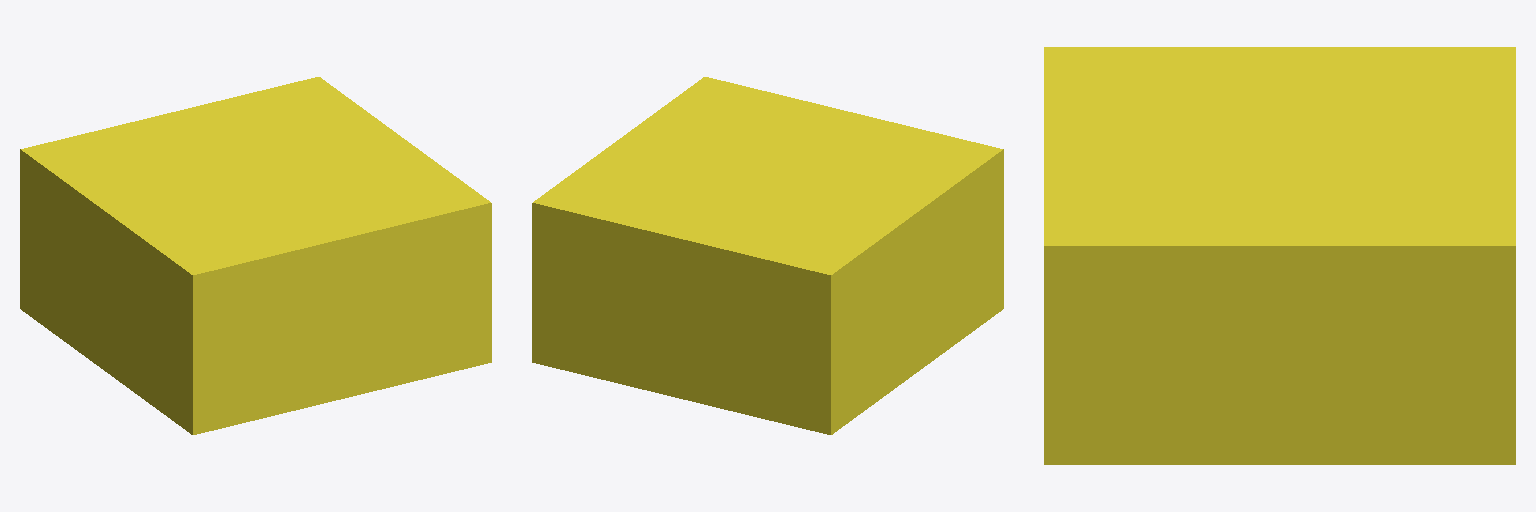
URDF robot description (summit_xl):
<?xml version="1.0" ?>
<!-- =================================================================================== -->
<!-- |    This document was autogenerated by xacro from summit_xls_std.urdf.xacro      | -->
<!-- |    EDITING THIS FILE BY HAND IS NOT RECOMMENDED                                 | -->
<!-- =================================================================================== -->
<robot name="summit_xl">

  <link name="v_x_link" />
  <joint name="v_x_joint" type="prismatic">
    <origin rpy="0 0 0" xyz="0 0 -0.13228"/>
      <parent link="v_x_link"/>
      <child link="v_y_link"/>
      <axis xyz= "1 0 0"/>
      <limit effort="1000.0" lower="-10000.0" upper="-10000.0" velocity="10000.0"/>
  </joint>
  <link name="v_y_link" />
  <joint name="v_y_joint" type="prismatic">
    <origin rpy="0 0 0" xyz="0 0 -0.13228"/>
      <parent link="v_y_link"/>
      <child link="v_t_link"/>
      <axis xyz= "0 1 0"/>
      <limit effort="1000.0" lower="-10000.0" upper="-10000.0" velocity="10000.0"/>
  </joint>
  <link name="v_t_link" />
  <joint name="v_t_joint" type="revolute">
    <origin rpy="0 0 0" xyz="0 0 -0.13228"/>
      <parent link="v_t_link"/>
      <child link="summit_xl_base_link"/>
      <axis rpy="0 0 0" xyz="0 0 1"/>
      <limit effort="1000.0" lower="-6.24" upper="6.24" velocity="10000.0"/>
  </joint>

  <link name="summit_xl_base_footprint">
    <visual>
      <origin rpy="0 0 0" xyz="0 0 0"/>
      <geometry>
        <box size="0.001 0.001 0.001"/>
      </geometry>
    </visual>
  </link>
  <link name="summit_xl_base_link">
    <inertial>
      <mass value="125.0"/>
      <origin xyz="0 0 0"/>
      <inertia ixx="1.391" ixy="0.004" ixz="0.0" iyy="6.853" iyz="0.0" izz="6.125"/>
    </inertial>
    <visual>
      <origin rpy="0 0 0" xyz="0 0 0"/>
      <geometry>
        <mesh filename="package://summit_xl_description/meshes/bases/xls/summit_xls_chassis.stl"/>
      </geometry>
      <material name="black">
        <color rgba="0.0 0.0 0.0 1"/>
      </material>
    </visual>
    <collision>
      <origin rpy="0 0 0 " xyz="0 0 0"/>
      <geometry>
        <mesh filename="package://summit_xl_description/meshes/bases/xls/summit_xls_chassis.dae"/>
      </geometry>
    </collision>
  </link>

  <joint name="summit_xl_base_footprint_joint" type="fixed">
    <origin rpy="0 0 0" xyz="0 0 0.127"/>
    <!-- ${wheel_radius} property must be defined inside wheel description -->
    <parent link="summit_xl_base_link"/>
    <child link="summit_xl_base_footprint"/>
  </joint>
  <!-- BASE_LINK -->


  <!-- CHAPAS INOX TAPAS -->
  <link name="summit_xl_base_chapa">
    <visual>
      <origin rpy="0 0 0" xyz="0 0 0"/>
      <geometry>
        <mesh filename="package://summit_xl_description/meshes/bases/xls/summit_xls_chapas_inox_tapas.stl"/>
      </geometry>
      <material name="darkgrey">
        <color rgba="0.5 0.5 0.5 1"/>
      </material>
    </visual>
    <collision>
      <origin rpy="0 0 0" xyz="0 0 0"/>
      <geometry>
        <mesh filename="package://summit_xl_description/meshes/bases/xls/summit_xls_chapas_inox_tapas.stl"/>
      </geometry>
    </collision>
  </link>
  <joint name="summit_xl_base_tapa_joint" type="fixed">
    <origin rpy="0 0 0" xyz="0.0 0 0.38062"/>
    <parent link="summit_xl_base_link"/>
    <child link="summit_xl_base_chapa"/>
  </joint>
  <!-- LOGO ROBOTNIK IZQUIERDO -->
  <link name="summit_xl_base_logo_left">
    <visual>
      <origin rpy="0 0 0" xyz="0 0 0"/>
      <geometry>
        <mesh filename="package://summit_xl_description/meshes/bases/xls/robotnik_logo_chasis.stl"/>
      </geometry>
      <material name="darkgrey">
        <color rgba="0.5 0.5 0.5 1"/>
      </material>
    </visual>
  </link>
  <joint name="summit_xl_base_logo_left_joint" type="fixed">
    <origin rpy="0 0 0" xyz="0.0 0.28931 0.29062"/>
    <parent link="summit_xl_base_link"/>
    <child link="summit_xl_base_logo_left"/>
  </joint>
  <!-- LOGO ROBOTNIK DERECHO -->
  <link name="summit_xl_base_logo_right">
    <visual>
      <origin rpy="0 0 0" xyz="0 0 0"/>
      <geometry>
        <mesh filename="package://summit_xl_description/meshes/bases/xls/robotnik_logo_chasis.stl"/>
      </geometry>
      <material name="darkgrey">
        <color rgba="0.5 0.5 0.5 1"/>
      </material>
    </visual>
  </link>
  <joint name="summit_xl_base_logo_right_joint" type="fixed">
    <origin rpy="0 0 3.141592653589793" xyz="0.0 -0.28931 0.29062"/>
    <parent link="summit_xl_base_link"/>
    <child link="summit_xl_base_logo_right"/>
  </joint>
  <!-- LOGO ROBOTNIK FRONTAL -->
  <link name="summit_xl_base_logo_front">
    <visual>
      <origin rpy="0 0 0" xyz="0 0 0"/>
      <geometry>
        <mesh filename="package://summit_xl_description/meshes/bases/xls/robotnik_logo_chasis.stl"/>
      </geometry>
      <material name="darkgrey">
        <color rgba="0.5 0.5 0.5 1"/>
      </material>
    </visual>
  </link>
  <joint name="summit_xl_base_logo_front_joint" type="fixed">
    <origin rpy="0 0 -1.5707963267948966" xyz="0.345 0.0 0.0"/>
    <parent link="summit_xl_base_link"/>
    <child link="summit_xl_base_logo_front"/>
  </joint>
  <!-- LOGO ROBOTNIK TRASERO -->
  <link name="summit_xl_base_logo_rear">
    <visual>
      <origin rpy="0 0 0" xyz="0 0 0"/>
      <geometry>
        <mesh filename="package://summit_xl_description/meshes/bases/xls/robotnik_logo_chasis.stl"/>
      </geometry>
      <material name="darkgrey">
        <color rgba="0.5 0.5 0.5 1"/>
      </material>
    </visual>
  </link>
  <joint name="summit_xl_base_logo_rear_joint" type="fixed">
    <origin rpy="0 0 1.5707963267948966" xyz="-0.345 0.0 0.0"/>
    <parent link="summit_xl_base_link"/>
    <child link="summit_xl_base_logo_rear"/>
  </joint>
  <!-- DOCKING CONTACT -->
  <link name="summit_xl_base_docking_contact">
    </link>
  <joint name="summit_xl_base_docking_joint" type="fixed">
    <origin rpy="0 0 0" xyz="0.35 0 0.09"/>
    <parent link="summit_xl_base_link"/>
    <child link="summit_xl_base_docking_contact"/>
  </joint>
  <link name="top_structure">
    <visual>
      <origin rpy="0 0 0" xyz="0 0 0"/>
      <geometry>
        <mesh filename="package://summit_xl_description/meshes/structures/top_structure_roas.STL"/>
      </geometry>
      <material name="silver">
        <color rgba="0.75 0.75 0.75 1"/>
      </material>
    </visual>
    <collision>
      <origin rpy="0 0 0" xyz="-0.29 0 0.75"/>
      <geometry>
        <box size="0.09 0.45 0.5"/>
      </geometry>
    </collision>
  </link>
  <material name="aluminum">
    <color rgba="0.5 0.5 0.5 1"/>
  </material>
  
  <joint name="top_structure_joint" type="fixed">
    <origin rpy="0 0 0" xyz="0 0 -0.127"/>
    <parent link="summit_xl_base_link"/>
    <child link="top_structure"/>
  </joint>

  <link name="ur5e_base_link">
    <visual>
      <geometry>
        <mesh filename="package://ur_e_description/meshes/ur5e/visual/base.dae"/>
      </geometry>
      <material name="LightGrey">
        <color rgba="0.7 0.7 0.7 1.0"/>
      </material>
    </visual>
    <collision>
      <geometry>
        <mesh filename="package://ur_e_description/meshes/ur5e/collision/base.stl"/>
      </geometry>
    </collision>
    <inertial>
      <mass value="4.0"/>
      <origin rpy="0 0 0" xyz="0.0 0.0 0.0"/>
      <inertia ixx="0.00443333156" ixy="0.0" ixz="0.0" iyy="0.00443333156" iyz="0.0" izz="0.0072"/>
    </inertial>
  </link>
  <joint name="ur5e_shoulder_pan_joint" type="revolute">
    <parent link="ur5e_base_link"/>
    <child link="ur5e_shoulder_link"/>
    <origin rpy="0.0 0.0 0.0" xyz="0.0 0.0 0.163"/>
    <axis xyz="0 0 1"/>
    <limit effort="150.0" lower="-3.141592653589793" upper="3.141592653589793" velocity="3.14"/>
    <dynamics damping="0.0" friction="0.0"/>
  </joint>
  <link name="ur5e_shoulder_link">
    <visual>
      <geometry>
        <mesh filename="package://ur_e_description/meshes/ur5e/visual/shoulder.dae"/>
      </geometry>
      <material name="LightGrey">
        <color rgba="0.7 0.7 0.7 1.0"/>
      </material>
    </visual>
    <collision>
      <geometry>
        <mesh filename="package://ur_e_description/meshes/ur5e/collision/shoulder.stl"/>
      </geometry>
    </collision>
    <inertial>
      <mass value="3.7"/>
      <origin rpy="0 0 0" xyz="0.0 0.0 0.0"/>
      <inertia ixx="0.010267495893" ixy="0.0" ixz="0.0" iyy="0.010267495893" iyz="0.0" izz="0.00666"/>
    </inertial>
  </link>
  <joint name="ur5e_shoulder_lift_joint" type="revolute">
    <parent link="ur5e_shoulder_link"/>
    <child link="ur5e_upper_arm_link"/>
    <origin rpy="0.0 1.5707963267948966 0.0" xyz="0.0 0.138 0.0"/>
    <axis xyz="0 1 0"/>
    <limit effort="150.0" lower="-3.141592653589793" upper="3.141592653589793" velocity="3.14"/>
    <dynamics damping="0.0" friction="0.0"/>
  </joint>
  <link name="ur5e_upper_arm_link">
    <visual>
      <geometry>
        <mesh filename="package://ur_e_description/meshes/ur5e/visual/upperarm.dae"/>
      </geometry>
      <material name="LightGrey">
        <color rgba="0.7 0.7 0.7 1.0"/>
      </material>
    </visual>
    <collision>
      <geometry>
        <mesh filename="package://ur_e_description/meshes/ur5e/collision/upperarm.stl"/>
      </geometry>
    </collision>
    <inertial>
      <mass value="8.393"/>
      <origin rpy="0 0 0" xyz="0.0 0.0 0.2125"/>
      <inertia ixx="0.1338857818623325" ixy="0.0" ixz="0.0" iyy="0.1338857818623325" iyz="0.0" izz="0.0151074"/>
    </inertial>
  </link>
  <joint name="ur5e_elbow_joint" type="revolute">
    <parent link="ur5e_upper_arm_link"/>
    <child link="ur5e_forearm_link"/>
    <origin rpy="0.0 0.0 0.0" xyz="0.0 -0.131 0.425"/>
    <axis xyz="0 1 0"/>
    <limit effort="150.0" lower="-3.141592653589793" upper="3.141592653589793" velocity="3.14"/>
    <dynamics damping="0.0" friction="0.0"/>
  </joint>
  <link name="ur5e_forearm_link">
    <visual>
      <geometry>
        <mesh filename="package://ur_e_description/meshes/ur5e/visual/forearm.dae"/>
      </geometry>
      <material name="LightGrey">
        <color rgba="0.7 0.7 0.7 1.0"/>
      </material>
    </visual>
    <collision>
      <geometry>
        <mesh filename="package://ur_e_description/meshes/ur5e/collision/forearm.stl"/>
      </geometry>
    </collision>
    <inertial>
      <mass value="2.275"/>
      <origin rpy="0 0 0" xyz="0.0 0.0 0.196"/>
      <inertia ixx="0.031179620861480004" ixy="0.0" ixz="0.0" iyy="0.031179620861480004" iyz="0.0" izz="0.004095"/>
    </inertial>
  </link>
  <joint name="ur5e_wrist_1_joint" type="revolute">
    <parent link="ur5e_forearm_link"/>
    <child link="ur5e_wrist_1_link"/>
    <origin rpy="0.0 1.5707963267948966 0.0" xyz="0.0 0.0 0.392"/>
    <axis xyz="0 1 0"/>
    <limit effort="28.0" lower="-3.141592653589793" upper="3.141592653589793" velocity="6.28"/>
    <dynamics damping="0.0" friction="0.0"/>
  </joint>
  <link name="ur5e_wrist_1_link">
    <visual>
      <geometry>
        <mesh filename="package://ur_e_description/meshes/ur5e/visual/wrist1.dae"/>
      </geometry>
      <material name="LightGrey">
        <color rgba="0.7 0.7 0.7 1.0"/>
      </material>
    </visual>
    <collision>
      <geometry>
        <mesh filename="package://ur_e_description/meshes/ur5e/collision/wrist1.stl"/>
      </geometry>
    </collision>
    <inertial>
      <mass value="1.219"/>
      <origin rpy="0 0 0" xyz="0.0 0.127 0.0"/>
      <inertia ixx="0.0025598989760400002" ixy="0.0" ixz="0.0" iyy="0.0025598989760400002" iyz="0.0" izz="0.0021942"/>
    </inertial>
  </link>
  <joint name="ur5e_wrist_2_joint" type="revolute">
    <parent link="ur5e_wrist_1_link"/>
    <child link="ur5e_wrist_2_link"/>
    <origin rpy="0.0 0.0 0.0" xyz="0.0 0.127 0.0"/>
    <axis xyz="0 0 1"/>
    <limit effort="28.0" lower="-3.141592653589793" upper="3.141592653589793" velocity="6.28"/>
    <dynamics damping="0.0" friction="0.0"/>
  </joint>
  <link name="ur5e_wrist_2_link">
    <visual>
      <geometry>
        <mesh filename="package://ur_e_description/meshes/ur5e/visual/wrist2.dae"/>
      </geometry>
      <material name="LightGrey">
        <color rgba="0.7 0.7 0.7 1.0"/>
      </material>
    </visual>
    <collision>
      <geometry>
        <mesh filename="package://ur_e_description/meshes/ur5e/collision/wrist2.stl"/>
      </geometry>
    </collision>
    <inertial>
      <mass value="1.219"/>
      <origin rpy="0 0 0" xyz="0.0 0.0 0.1"/>
      <inertia ixx="0.0025598989760400002" ixy="0.0" ixz="0.0" iyy="0.0025598989760400002" iyz="0.0" izz="0.0021942"/>
    </inertial>
  </link>
  <joint name="ur5e_wrist_3_joint" type="revolute">
    <parent link="ur5e_wrist_2_link"/>
    <child link="ur5e_wrist_3_link"/>
    <origin rpy="0.0 0.0 0.0" xyz="0.0 0.0 0.1"/>
    <axis xyz="0 1 0"/>
    <limit effort="28.0" lower="-3.141592653589793" upper="3.141592653589793" velocity="6.28"/>
    <dynamics damping="0.0" friction="0.0"/>
  </joint>
  <link name="ur5e_wrist_3_link">
    <visual>
      <geometry>
        <mesh filename="package://ur_e_description/meshes/ur5e/visual/wrist3.dae"/>
      </geometry>
      <material name="LightGrey">
        <color rgba="0.7 0.7 0.7 1.0"/>
      </material>
    </visual>
    <collision>
      <geometry>
        <mesh filename="package://ur_e_description/meshes/ur5e/collision/wrist3.stl"/>
      </geometry>
    </collision>
    <inertial>
      <mass value="0.1879"/>
      <origin rpy="1.5707963267948966 0 0" xyz="0.0 0.0771 0.0"/>
      <inertia ixx="9.890410052167731e-05" ixy="0.0" ixz="0.0" iyy="9.890410052167731e-05" iyz="0.0" izz="0.0001321171875"/>
    </inertial>
  </link>
  <joint name="ur5e_ee_fixed_joint" type="fixed">
    <parent link="ur5e_wrist_3_link"/>
    <child link="ur5e_ee_link"/>
    <origin rpy="0.0 0.0 1.5707963267948966" xyz="0.0 0.1 0.0"/>
  </joint>
  <link name="ur5e_ee_link">
    <collision>
      <geometry>
        <box size="0.01 0.01 0.01"/>
      </geometry>
      <origin rpy="0 0 0" xyz="-0.01 0 0"/>
    </collision>
  </link>

  <!-- ROS base_link to UR 'Base' Coordinates transform -->
  <link name="ur5e_base"/>
  <joint name="ur5e_base_link-base_fixed_joint" type="fixed">
    <!-- NOTE: this rotation is only needed as long as base_link itself is
                 not corrected wrt the real robot (ie: rotated over 180
                 degrees)
      -->
    <origin rpy="0 0 0" xyz="0 0 0"/>
    <parent link="ur5e_base"/>
    <child link="ur5e_base_link"/>
  </joint>
  <!-- Frame coincident with all-zeros TCP on UR controller -->
  <link name="ur5e_tool0"/>
  <joint name="ur5e_wrist_3_link-tool0_fixed_joint" type="fixed">
    <origin rpy="-1.5707963267948966 0 0" xyz="0 0.1 0"/>
    <parent link="ur5e_wrist_3_link"/>
    <child link="ur5e_tool0"/>
  </joint>

  <joint name="ur5e_base_joint" type="fixed">
    <origin rpy="0 0 0" xyz="0.225 0 0.01438"/>
    <parent link="summit_xl_base_chapa"/>
    <child link="ur5e_base"/>
  </joint>
</robot>

--- Render facts (derived) ---
Views: 3 orthographic renders of the robot side by side, from view 1: azimuth 30°, elevation 25°; view 2: azimuth 150°, elevation 25°; view 3: azimuth 270°, elevation 25°.
Robot: summit_xl — 22 links, 21 joints (7 revolute, 2 prismatic, 12 fixed); root link v_x_link; default pose: all joints at 0 but 2 set to mid-range because 0 is outside their limits (v_x_joint = -10000, v_y_joint = -10000).
Visible links, largest first — view 1: summit_xl_base_footprint; view 2: summit_xl_base_footprint; view 3: summit_xl_base_footprint.
Link boxes in pixels (<box>): summit_xl_base_footprint: <box>20,77,491,434</box>; summit_xl_base_footprint: <box>532,77,1003,434</box>; summit_xl_base_footprint: <box>1044,47,1515,464</box>.
Size in the robot's own frame: 0.002 by 0.002 by 0.001 metres.
Meshes: 11 distinct files referenced, 0 mesh visuals loaded (none loaded); not drawn: 14 (reference not matched to a file when rendering).